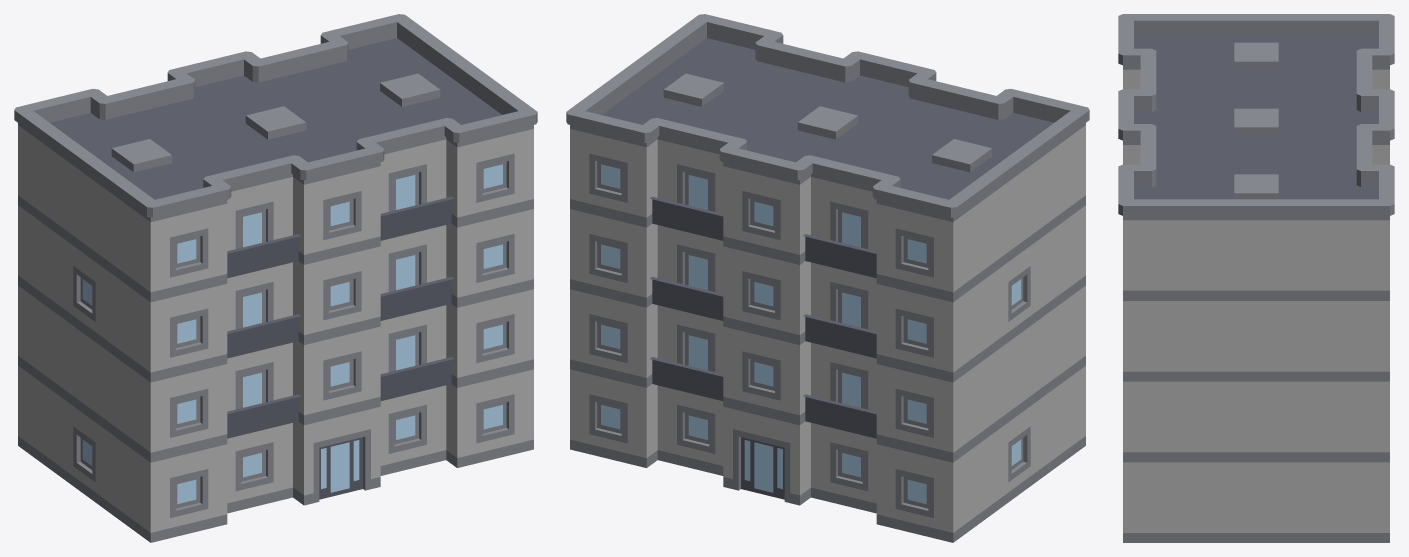
The model's file is large_building.glb.
3 renders of one model, left to right at view 1: azimuth 30°, elevation 25°; view 2: azimuth 150°, elevation 25°; view 3: azimuth 270°, elevation 25°, orthographic.
Visible parts, largest first — view 1: large_buildingA_275d5d, large_buildingA_7aca3f, large_buildingA_d5a7d5, large_buildingA_8b9bac; view 2: large_buildingA_275d5d, large_buildingA_7aca3f, large_buildingA_d5a7d5, large_buildingA_8b9bac; view 3: large_buildingA_275d5d, large_buildingA_7aca3f, large_buildingA_d5a7d5.
Boxes of the visible parts, bbox=[...] form: large_buildingA_275d5d: bbox=[18, 125, 533, 532]; large_buildingA_7aca3f: bbox=[14, 14, 537, 542]; large_buildingA_d5a7d5: bbox=[50, 38, 501, 499]; large_buildingA_8b9bac: bbox=[82, 164, 502, 504]; large_buildingA_275d5d: bbox=[570, 125, 1085, 532]; large_buildingA_7aca3f: bbox=[566, 14, 1089, 542]; large_buildingA_d5a7d5: bbox=[602, 38, 1053, 499]; large_buildingA_8b9bac: bbox=[601, 164, 1021, 504]; large_buildingA_275d5d: bbox=[1123, 69, 1389, 532]; large_buildingA_7aca3f: bbox=[1118, 14, 1394, 542]; large_buildingA_d5a7d5: bbox=[1134, 36, 1378, 199].
Size of the model in its own units: 12.14 by 10 by 7.38.
